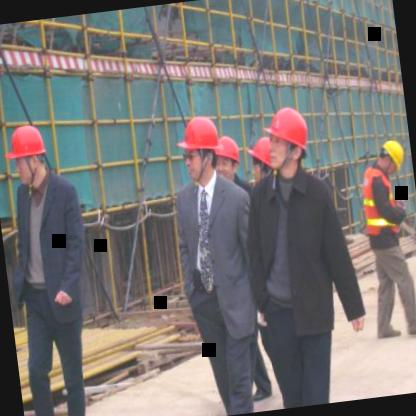helmet: (262, 103, 312, 176), (178, 111, 223, 184), (6, 121, 50, 188), (212, 134, 242, 185), (247, 138, 276, 182), (378, 135, 406, 175)
